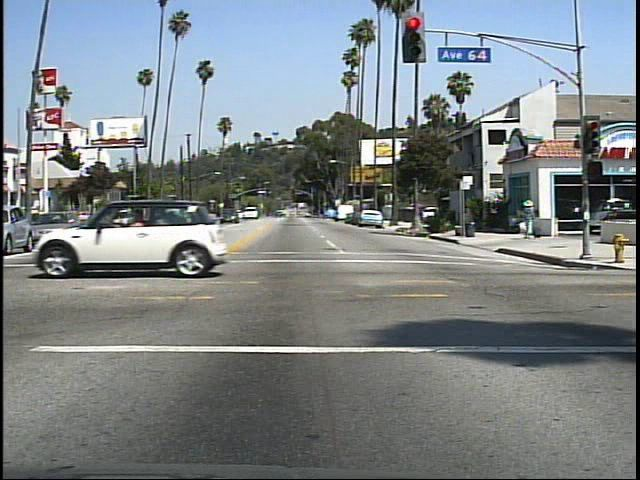person: (516, 194, 542, 243)
